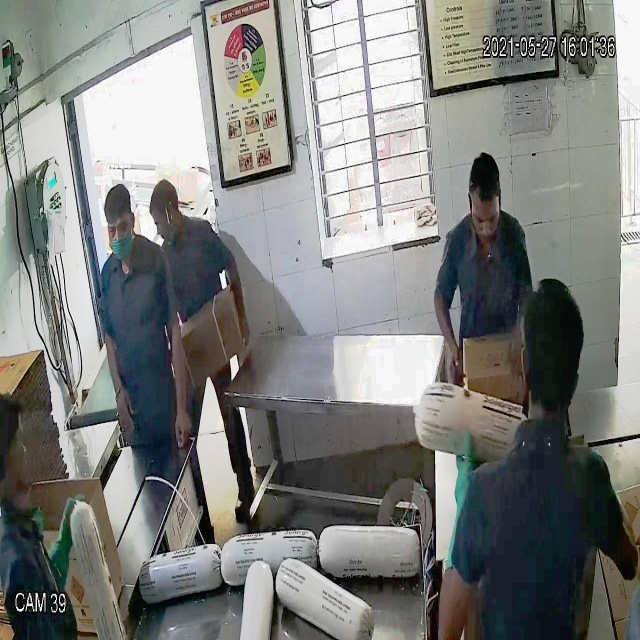Sin_gafas: (100, 212, 139, 247), (467, 198, 502, 235)
